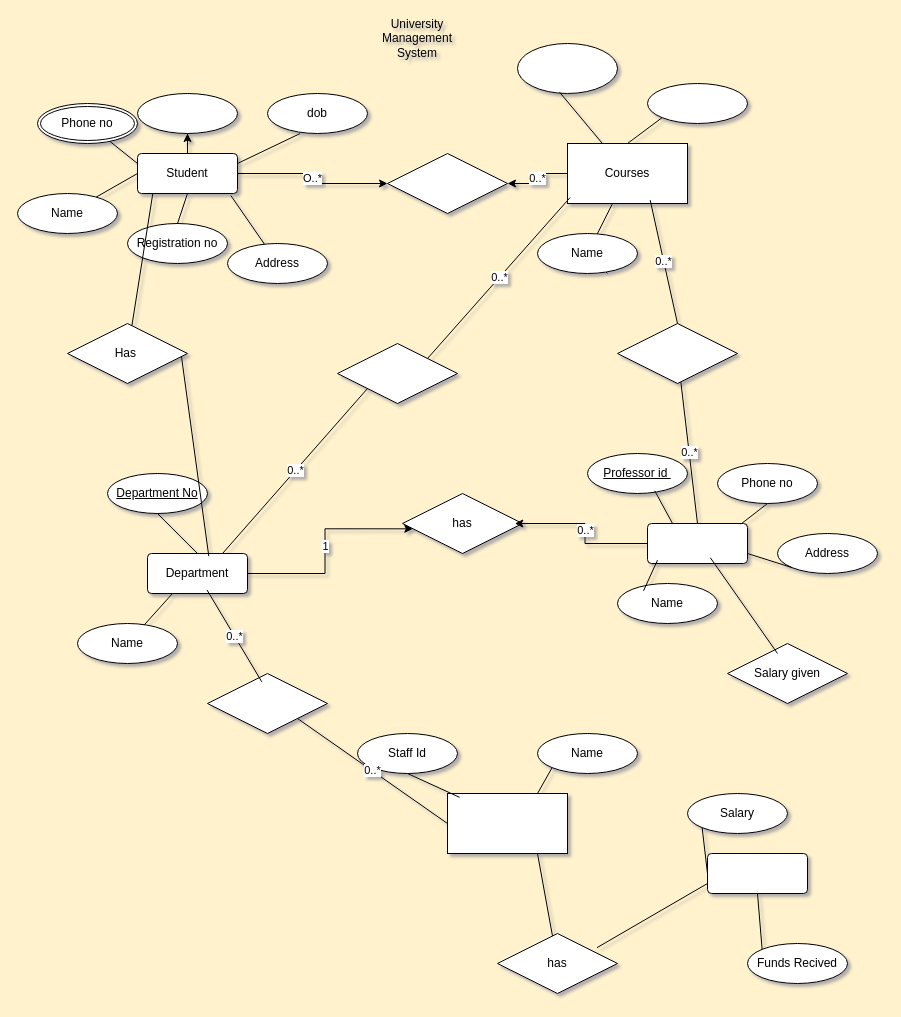
Some shapes in this 901 by 1017 pixel diagram are drawn without their labels. Here are the shapes that lost their labels. From the top down, the centre of each, then its label:
At pixel 567 68: "Course Id".
At pixel 187 113: "Sudent id".
At pixel 697 103: "Credits".
At pixel 447 183: "Enrolled in".
At pixel 397 373: "Offers".
At pixel 677 353: "Teaches".
At pixel 697 543: "Professor".
At pixel 267 703: "Manages".
At pixel 507 823: "Administration".
At pixel 757 873: "Finance Department".
